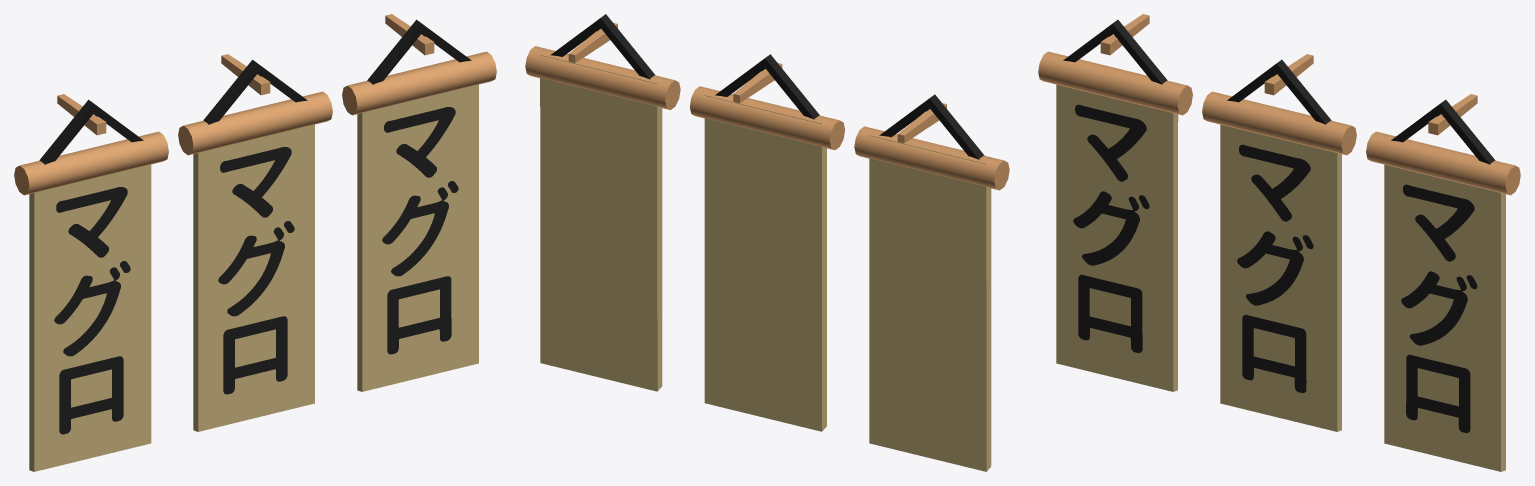
File: Decoration Sign 2.glb
3 renders of one model, left to right at view 1: azimuth 30°, elevation 25°; view 2: azimuth 150°, elevation 25°; view 3: azimuth 330°, elevation 25°, orthographic.
Parts seen in each view (by area): view 1: Decoration_Sign_2; view 2: Decoration_Sign_2; view 3: Decoration_Sign_2.
Part boxes in pixels (x1,y1,x2,y2): Decoration_Sign_2: [14, 14, 496, 471]; Decoration_Sign_2: [525, 14, 1009, 471]; Decoration_Sign_2: [1038, 14, 1520, 471].
Bounding box in the file's own units: 3.99 × 2.92 × 0.6067.
Materials: 1 (1 with a texture image).
